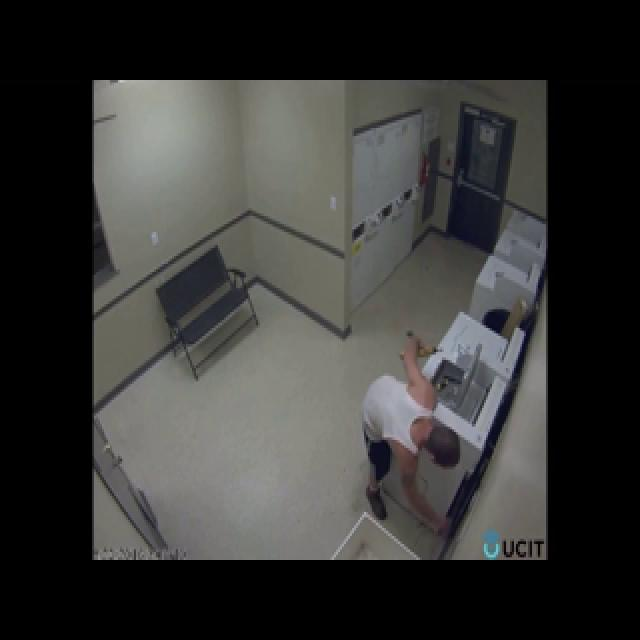arrest: (282, 262, 529, 559)
